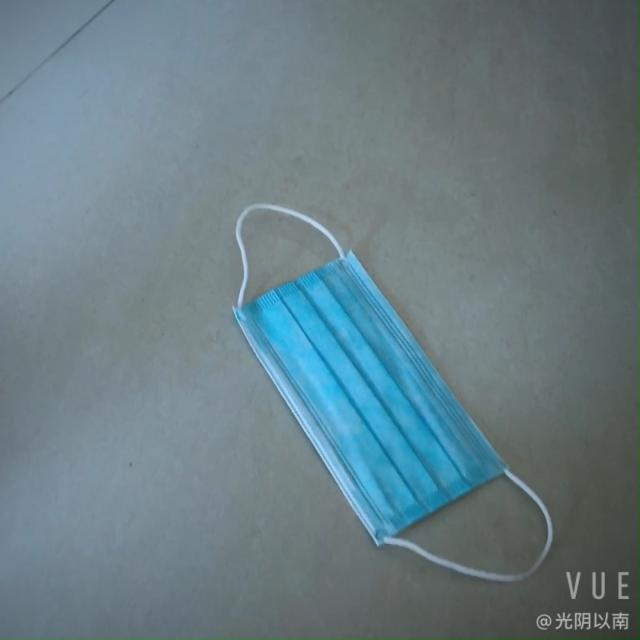non-organic waste: (231, 238, 510, 550)
